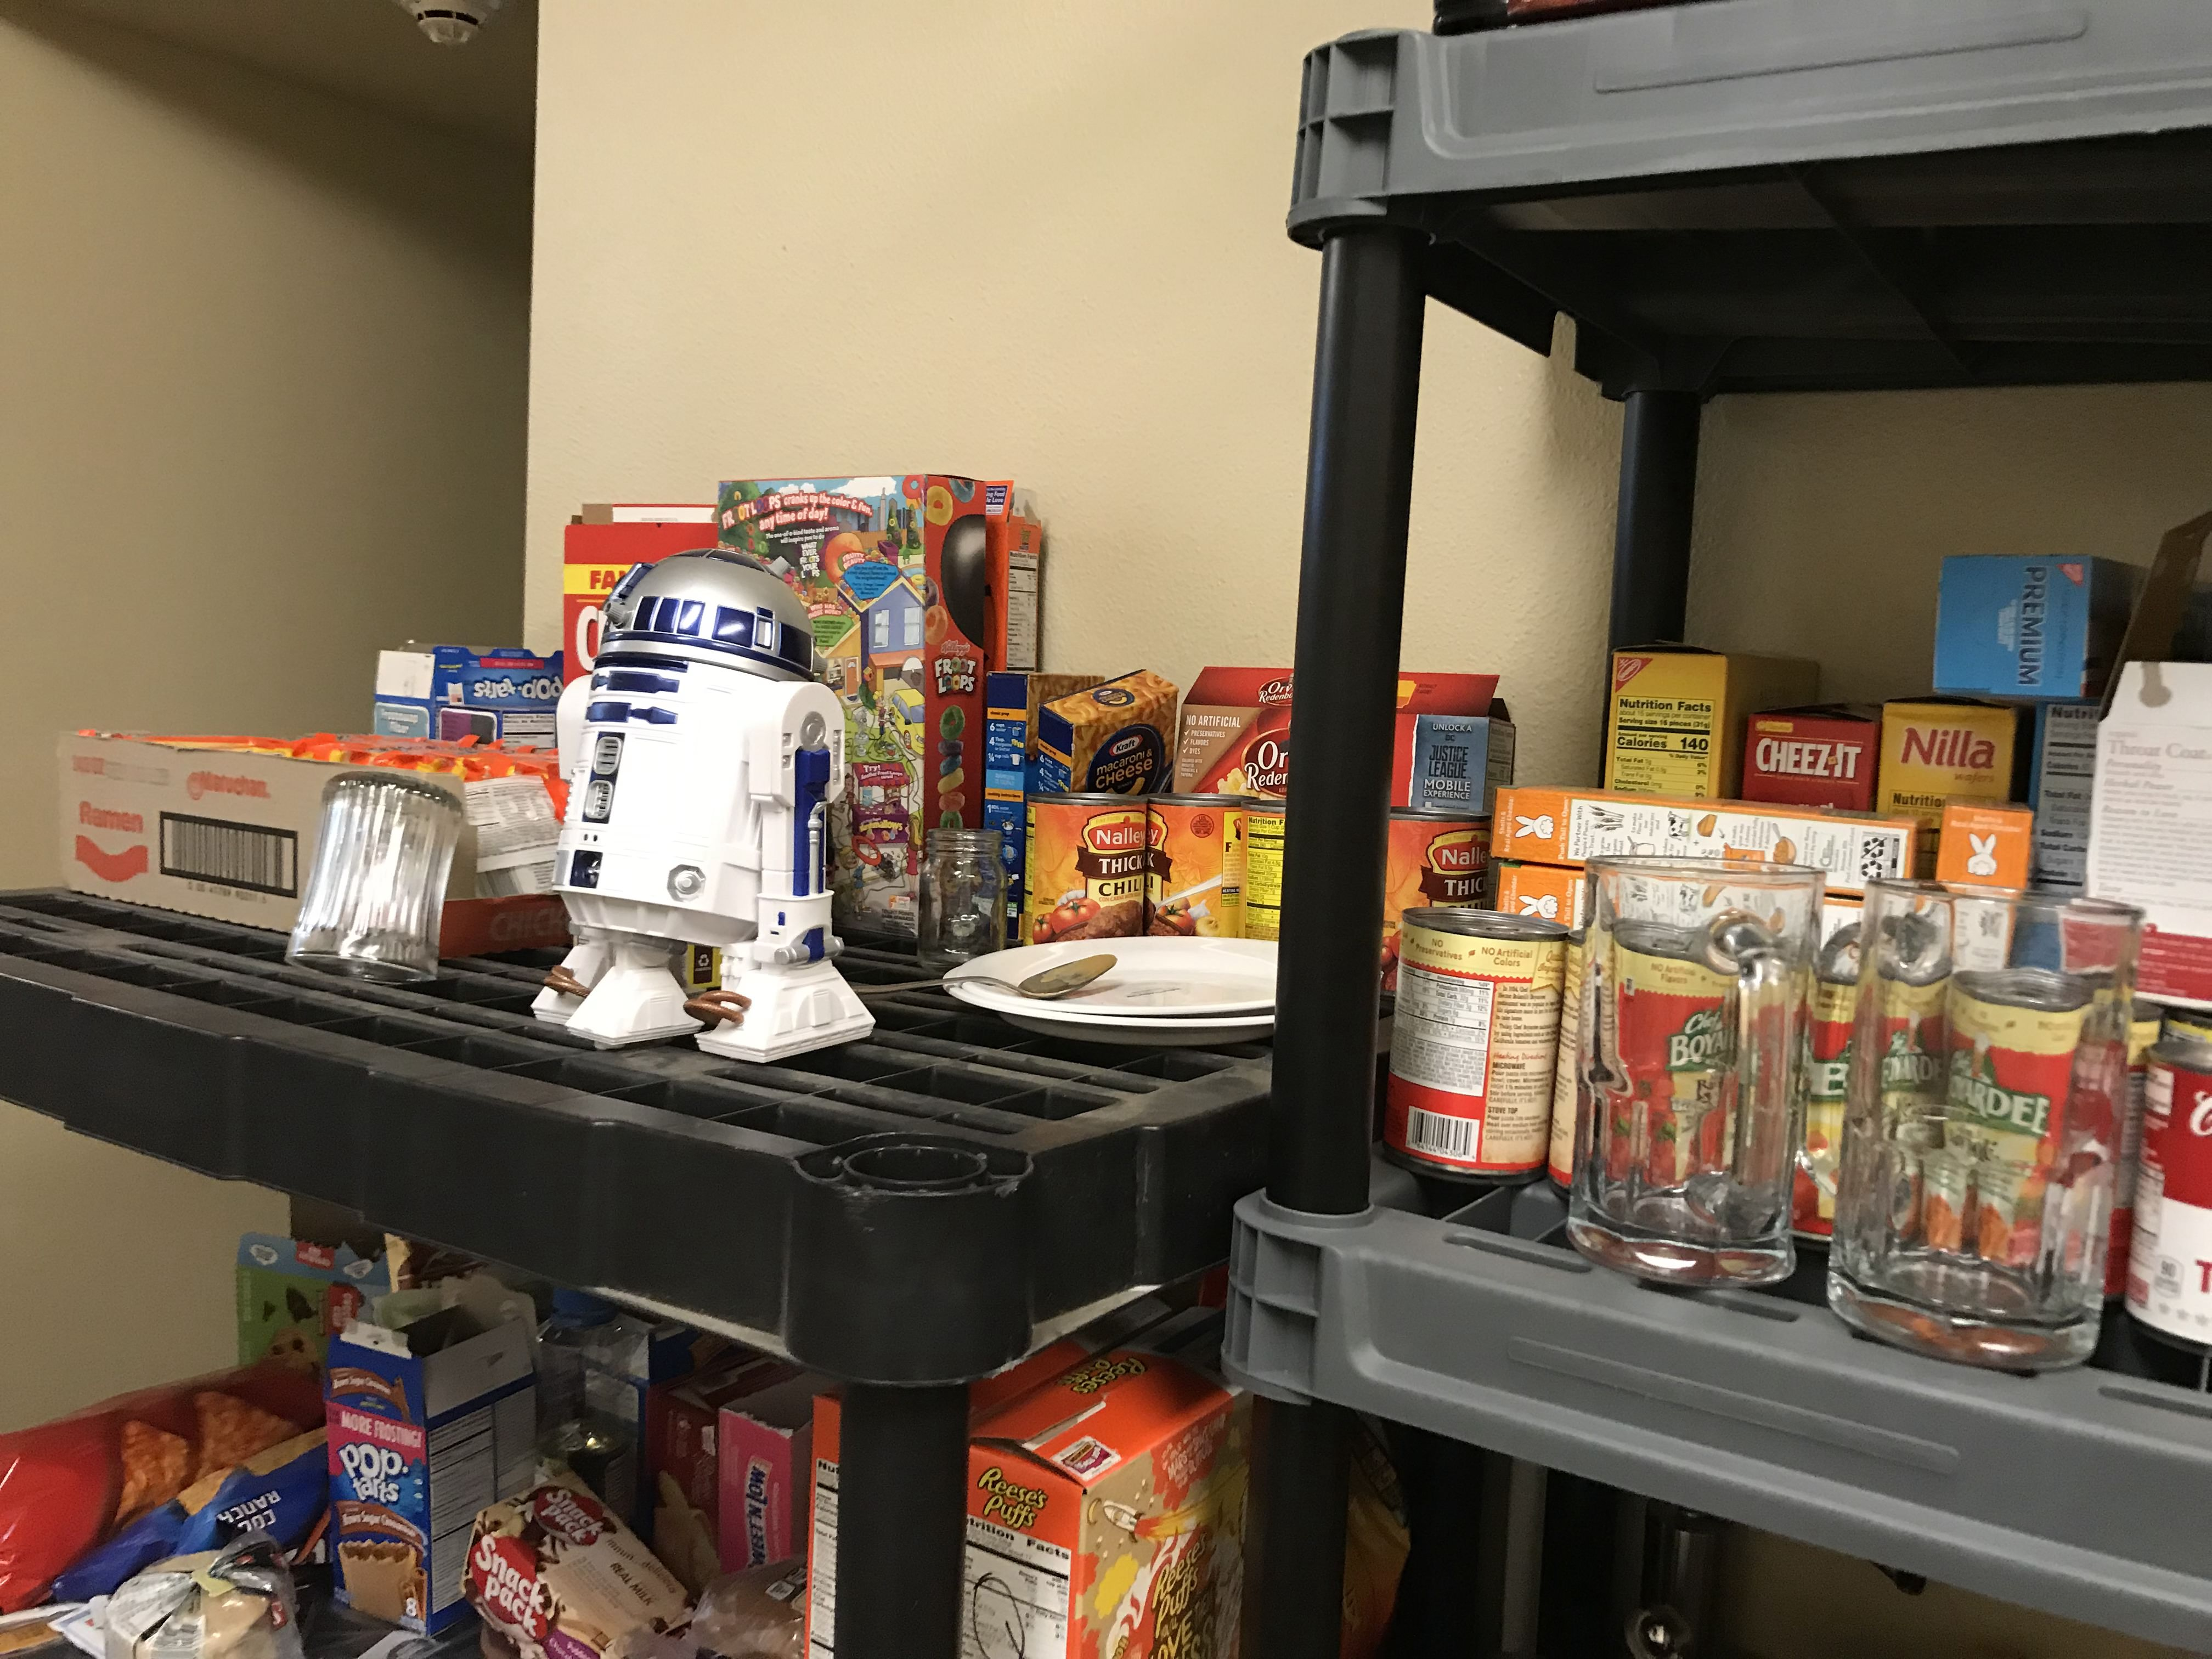r2d2: (529, 556, 874, 1060)
